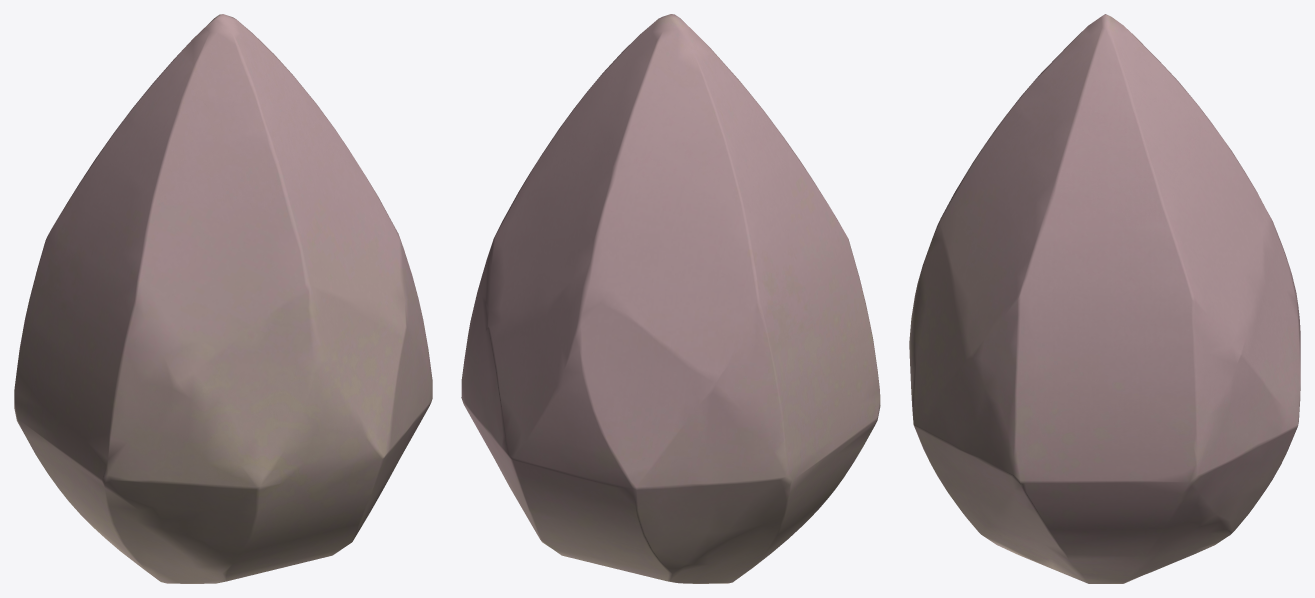
The model's file is tripo_convert_1e467774-3bed-4a96-8ebf-2d7f198f1367.fbx.
3 renders of one model, left to right at view 1: azimuth 30°, elevation 25°; view 2: azimuth 150°, elevation 25°; view 3: azimuth 270°, elevation 25°, orthographic.
Visible parts, largest first — view 1: tripo_node_1e467774; view 2: tripo_node_1e467774; view 3: tripo_node_1e467774.
Part boxes in pixels (box(x1,y1,x2,y2)): tripo_node_1e467774: box(14, 14, 432, 583); tripo_node_1e467774: box(461, 14, 880, 583); tripo_node_1e467774: box(909, 14, 1300, 583).
Size of the model in its own units: 0.6165 by 0.9829 by 0.6497.
1 material, 1 textured.
